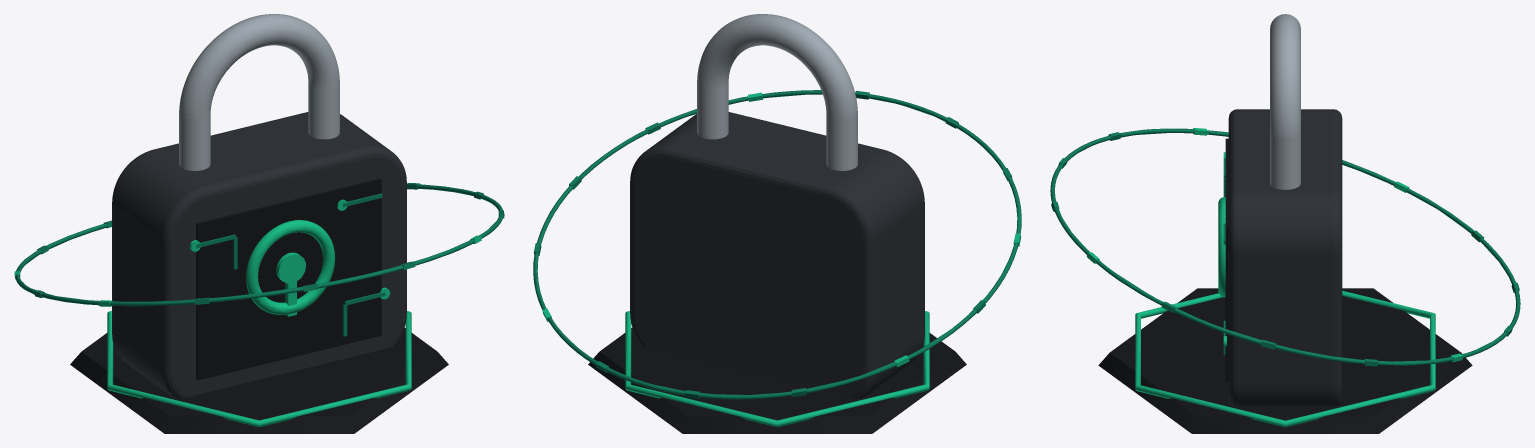
The model's file is quantum-lock.glb.
The picture shows the model from 3 angles, left to right: view 1: azimuth 30°, elevation 25°; view 2: azimuth 150°, elevation 25°; view 3: azimuth 270°, elevation 25°; orthographic projection.
Parts seen in each view (by area): view 1: front_panel, body, shackle_arc, core_ring, trace_0; view 2: body, front_panel, shackle_arc, trace_0, core_ring; view 3: body, front_panel, trace_0, shackle_arc, core_ring.
Boxes of the visible parts, <box> form: front_panel: <box>70,178,448,433</box>; body: <box>112,112,406,398</box>; shackle_arc: <box>179,14,339,170</box>; core_ring: <box>14,199,481,427</box>; trace_0: <box>15,183,504,336</box>; body: <box>630,112,924,398</box>; front_panel: <box>588,328,966,433</box>; shackle_arc: <box>697,14,857,170</box>; trace_0: <box>533,90,1021,399</box>; core_ring: <box>542,92,1021,427</box>; body: <box>1228,109,1342,406</box>; front_panel: <box>1098,138,1472,433</box>; trace_0: <box>1050,128,1520,366</box>; shackle_arc: <box>1270,14,1300,189</box>; core_ring: <box>1087,128,1463,427</box>.
Bounding box in the file's own units: 1.72 × 1.35 × 1.66.
